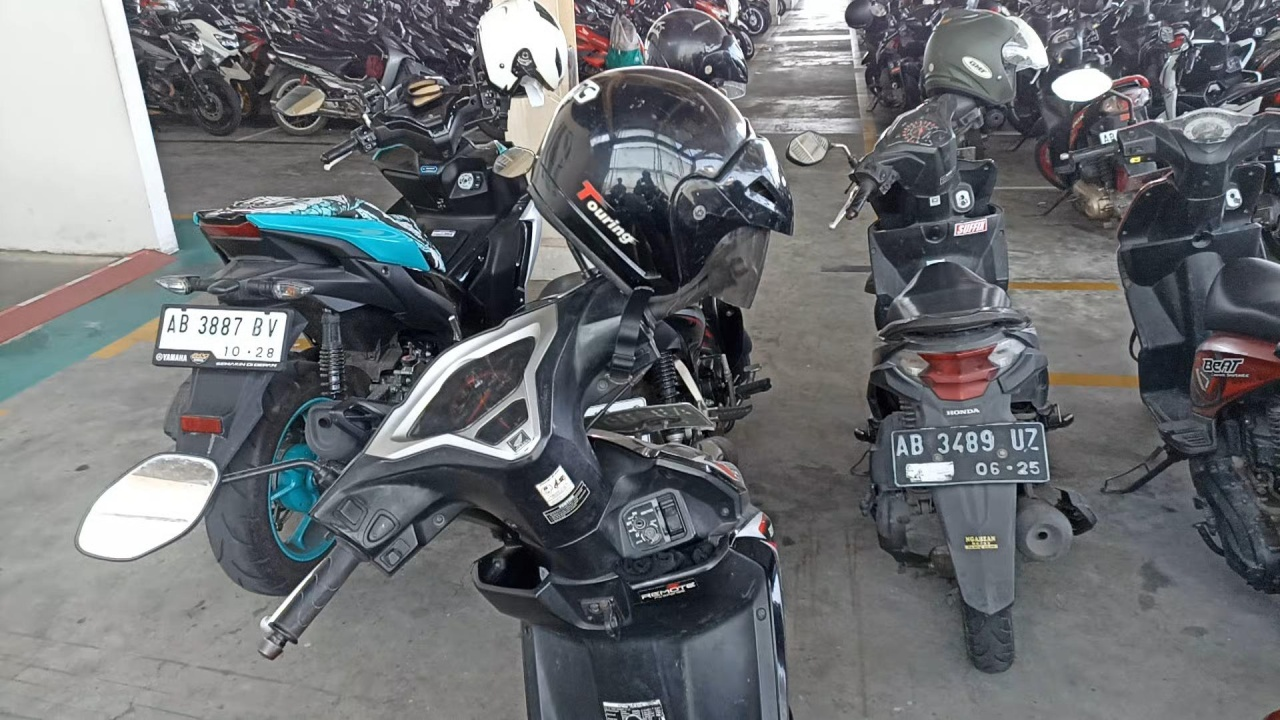plate: (891, 423, 1049, 487), (153, 306, 293, 367)
